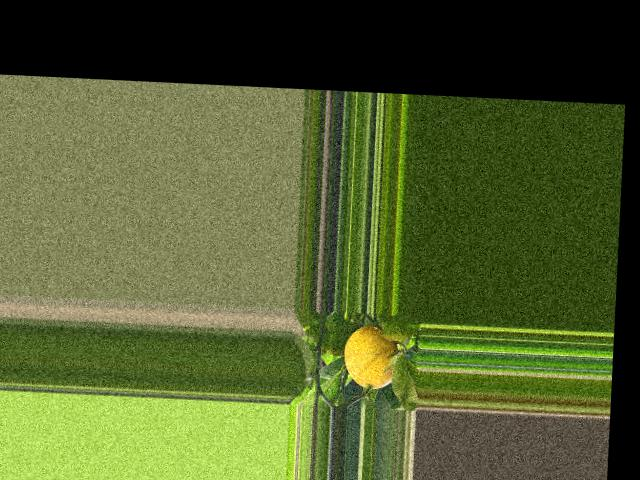lemon: (341, 323, 399, 394)
